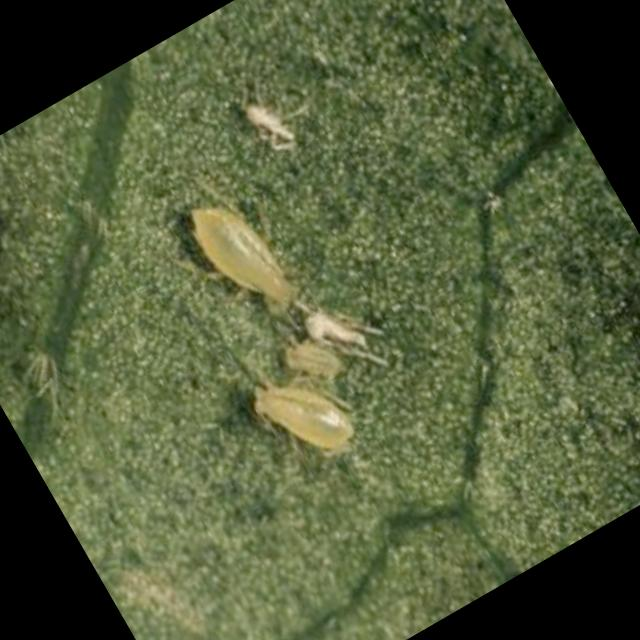Green peach aphid: (144, 162, 320, 346), (214, 341, 386, 512), (262, 294, 392, 412)
